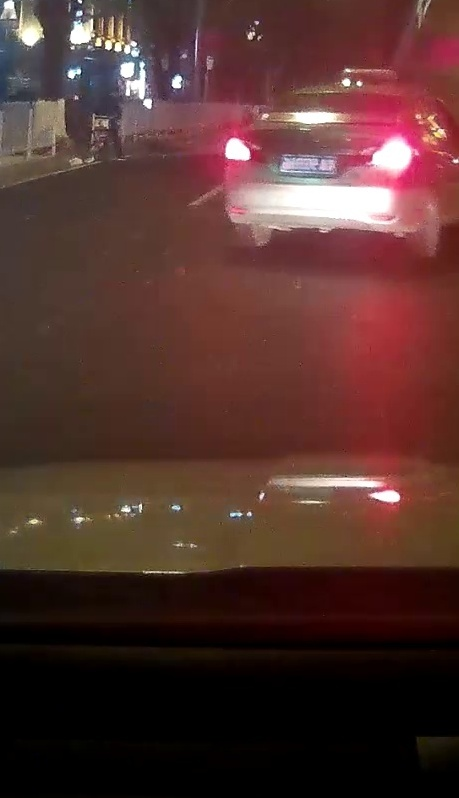L_light: (223, 136, 264, 164)
R_light: (371, 136, 414, 178)
T_light: (324, 92, 346, 98)
night-right: (222, 86, 419, 260)
